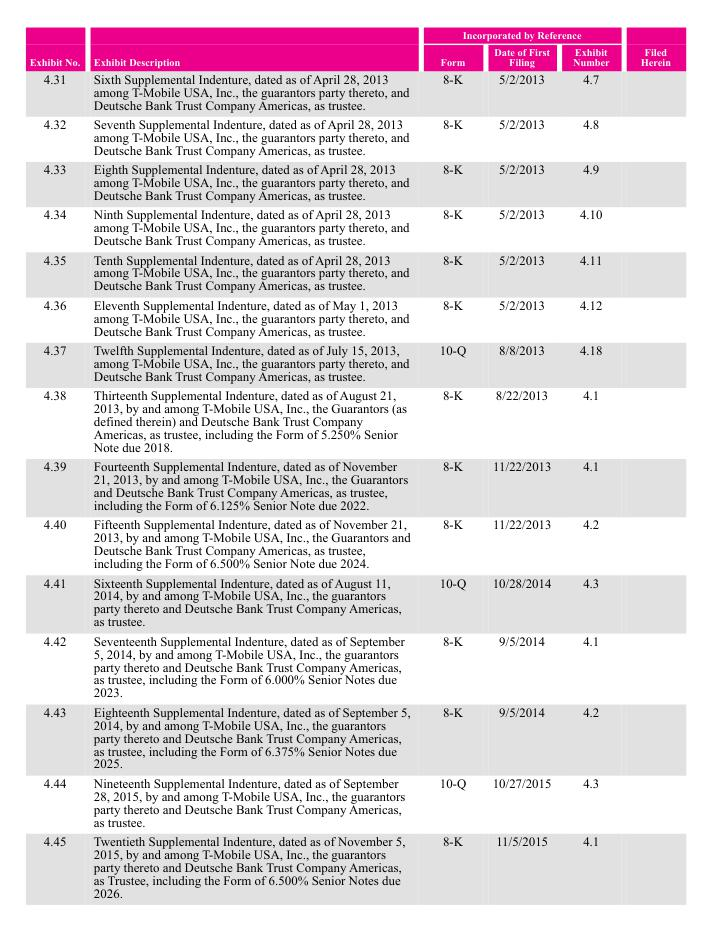table: (28, 28, 669, 899)
table column: (86, 28, 424, 899), (478, 28, 561, 899), (561, 28, 624, 899), (28, 28, 86, 899), (424, 28, 478, 899), (624, 28, 669, 899)
table column header: (28, 28, 669, 69)
table row: (28, 385, 669, 456), (28, 630, 669, 701), (28, 701, 669, 772), (28, 830, 669, 899), (28, 456, 669, 514), (28, 514, 669, 572), (28, 572, 669, 630), (28, 772, 669, 830), (28, 113, 669, 159), (28, 339, 669, 385), (28, 159, 669, 204), (28, 204, 669, 249), (28, 249, 669, 294), (28, 294, 669, 339), (28, 69, 669, 113), (28, 42, 669, 69), (28, 28, 669, 42)
table spanning cell: (86, 28, 424, 69), (424, 28, 624, 42), (28, 28, 86, 69), (624, 28, 669, 69)
